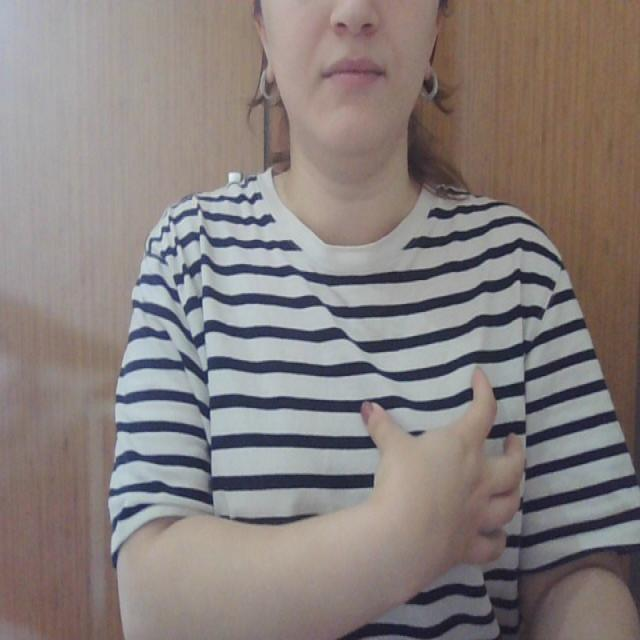Anne: (194, 366, 547, 586)
